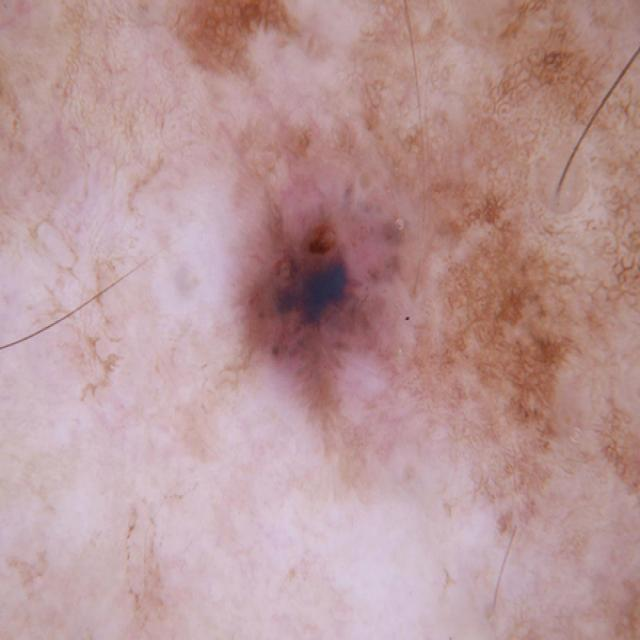Skin-Cancer Pigmented benign keratosis: (8, 9, 640, 635)
